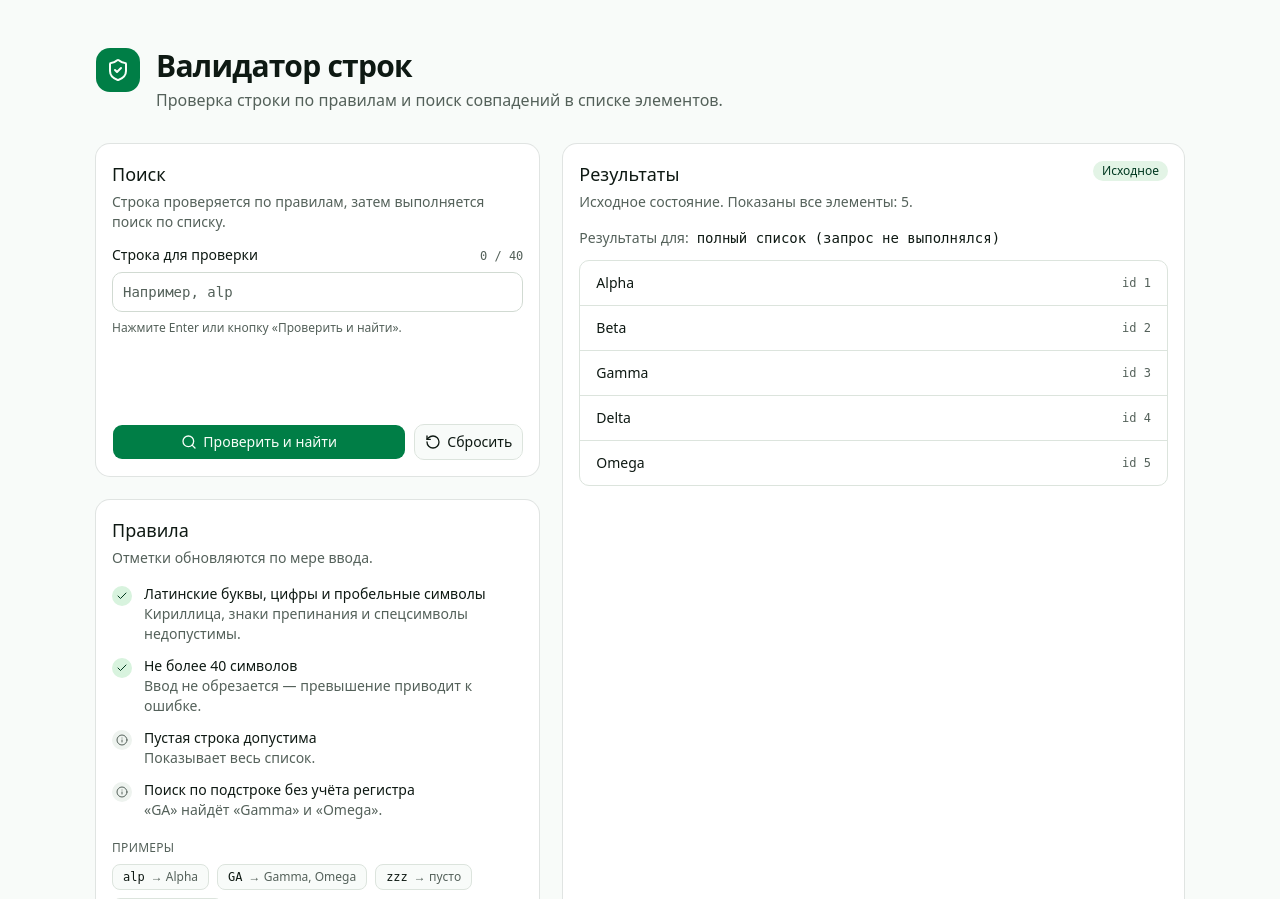
Scenario: Валидация формы › shows a field error for server-side HTTP 400 even when local validation passed
The width and height of the screenshot is (1280, 899).
Type "alp" into the field labelled "Строка для проверки" at [318, 292], box x1=112 y1=272 x2=523 y2=312
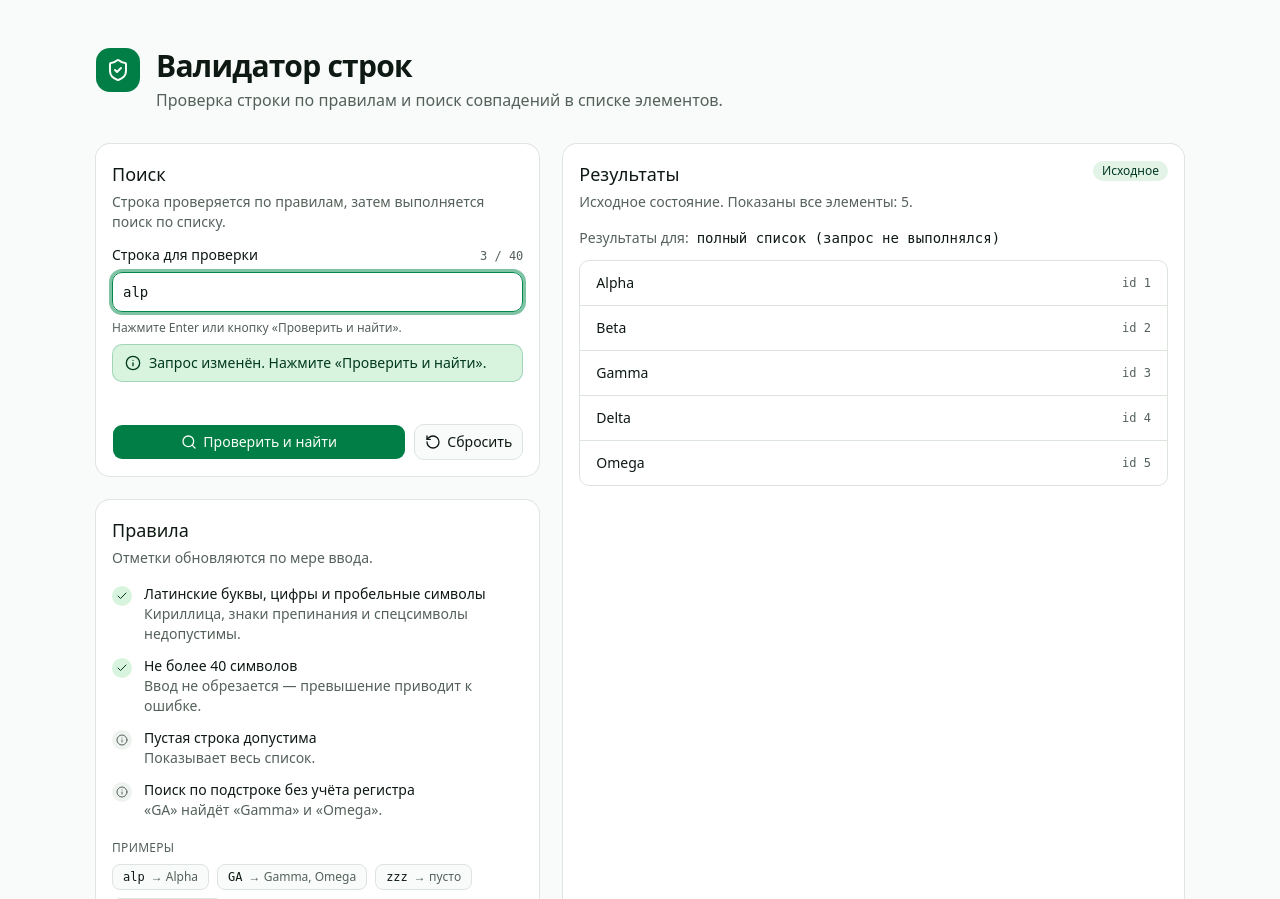
Click the button "Проверить и найти" at [259, 442], box x1=112 y1=424 x2=406 y2=460
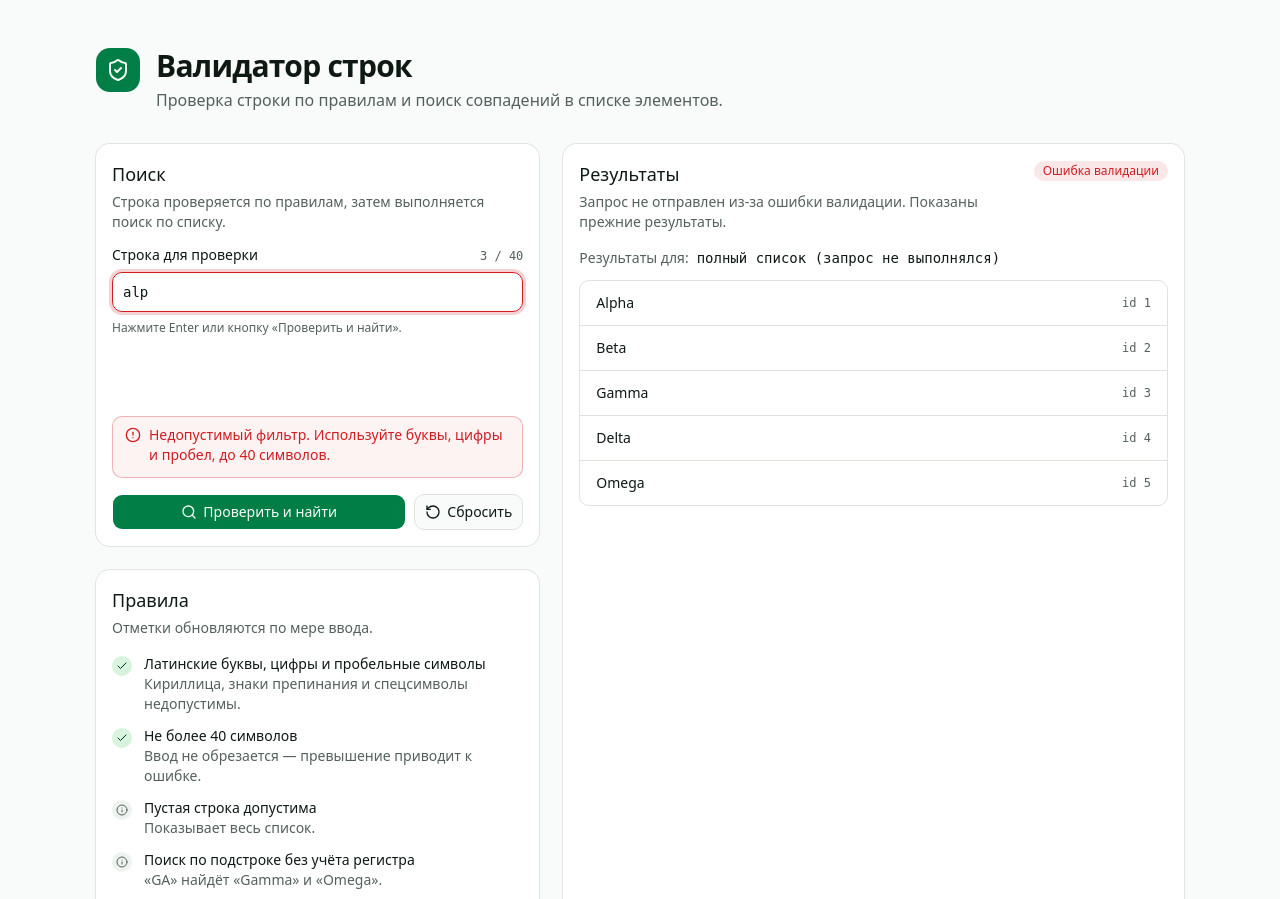
Result: the message "Недопустимый фильтр. Используйте буквы, цифры и пробел, до 40 символов." is shown at x1=112 y1=416 x2=523 y2=478
